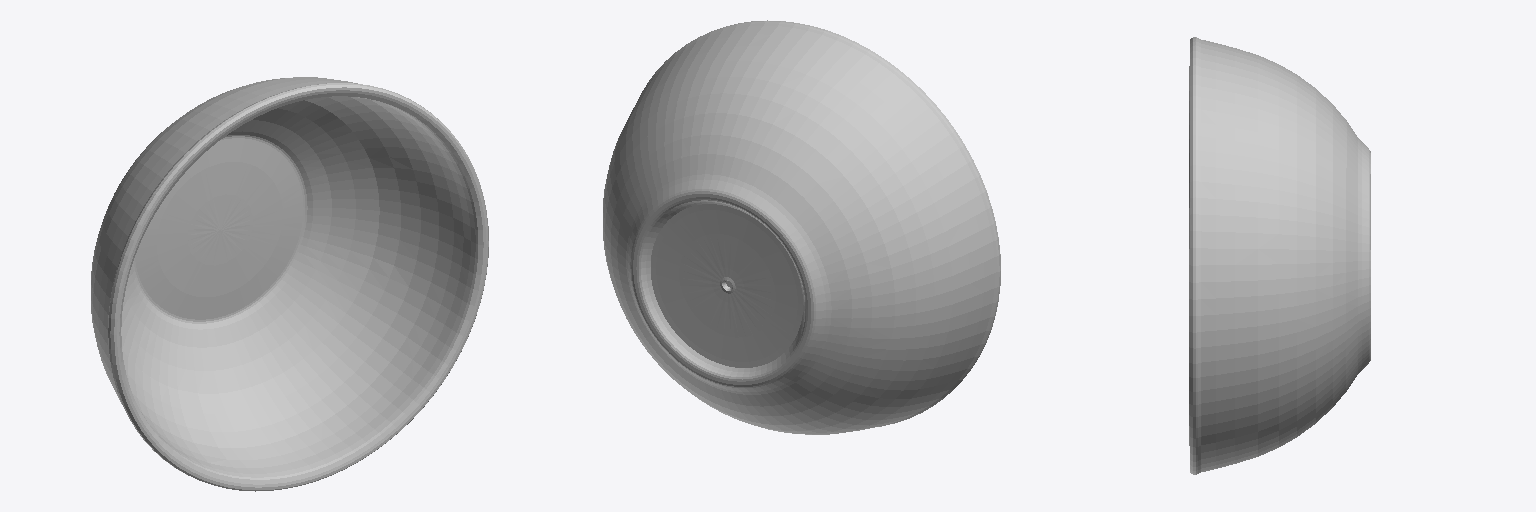
The model's file is evo_bowl_no_mtl.obj.
3 renders of one model, left to right at view 1: azimuth 30°, elevation 25°; view 2: azimuth 150°, elevation 25°; view 3: azimuth 270°, elevation 25°, orthographic.
Parts seen in each view (by area): view 1: polySurface4; view 2: polySurface4; view 3: polySurface4.
Boxes of the visible parts, x1=… form: polySurface4: x1=91, y1=77, x2=488, y2=491; polySurface4: x1=603, y1=20, x2=1000, y2=434; polySurface4: x1=1189, y1=37, x2=1370, y2=474.
Size of the model in its own units: 0.1468 by 0.1469 by 0.0613.